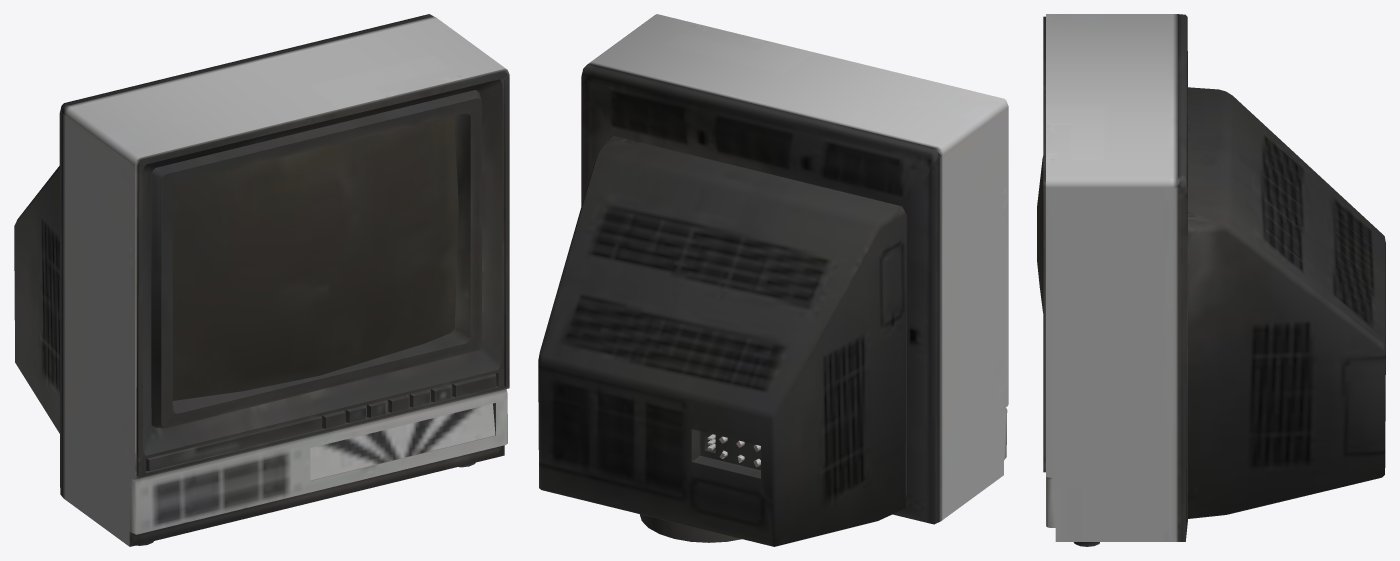
File: television_02.glb
The picture shows the model from 3 angles, left to right: view 1: azimuth 30°, elevation 25°; view 2: azimuth 150°, elevation 25°; view 3: azimuth 270°, elevation 25°; orthographic projection. The views are drawn at different scales.
Parts seen in each view (by area): view 1: television_02; view 2: television_02; view 3: television_02.
Part boxes in pixels (x1,y1,x2,y2): television_02: (14,14,509,546); television_02: (538,14,1008,546); television_02: (1037,14,1385,546).
Bounding box in the file's own units: 0.3998 × 0.4108 × 0.3494.
1 material, 1 textured.
